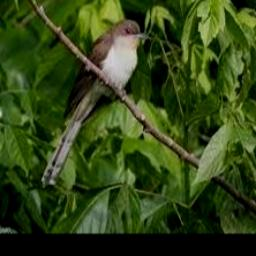Cuckoo: (39, 19, 150, 186)
